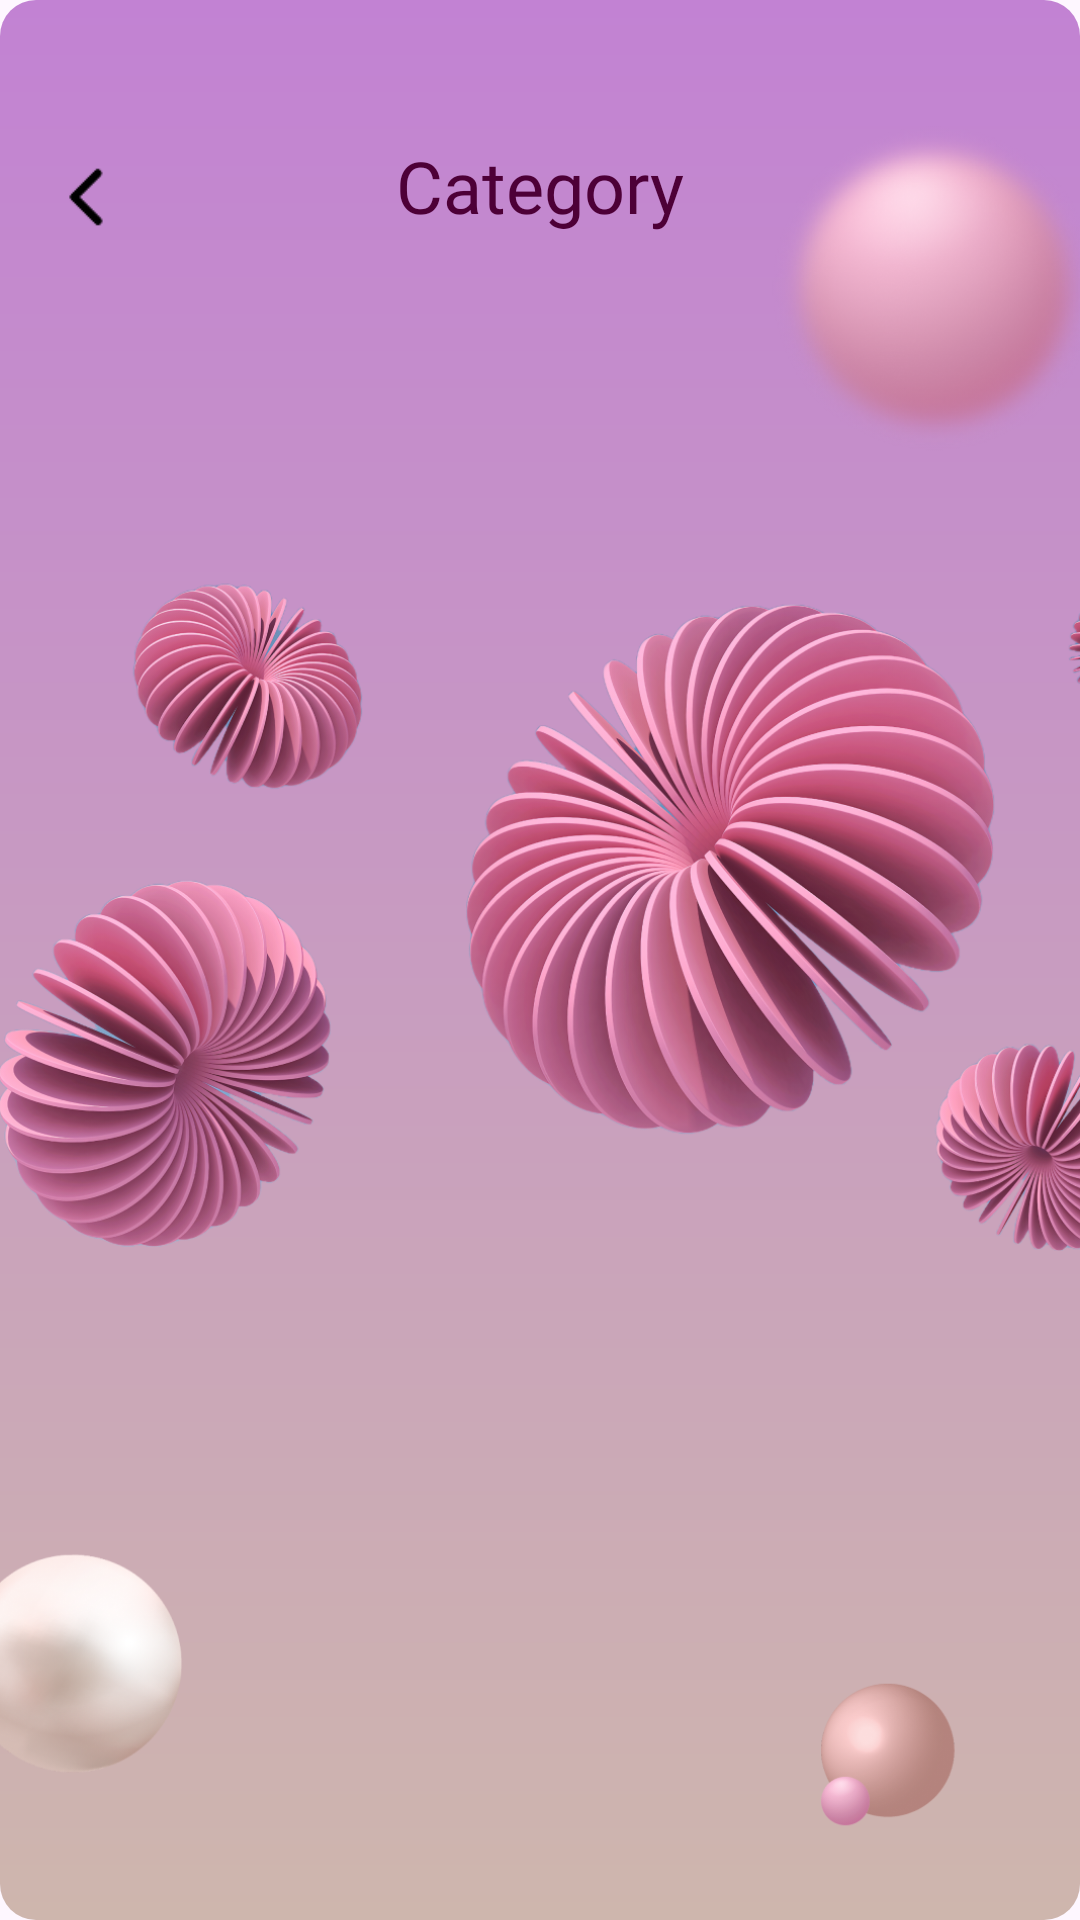

Icons on this 1080px x 1920px Android screen, each with its box as (x1, y1, x2, y2):
Back: (69, 168, 103, 226)
